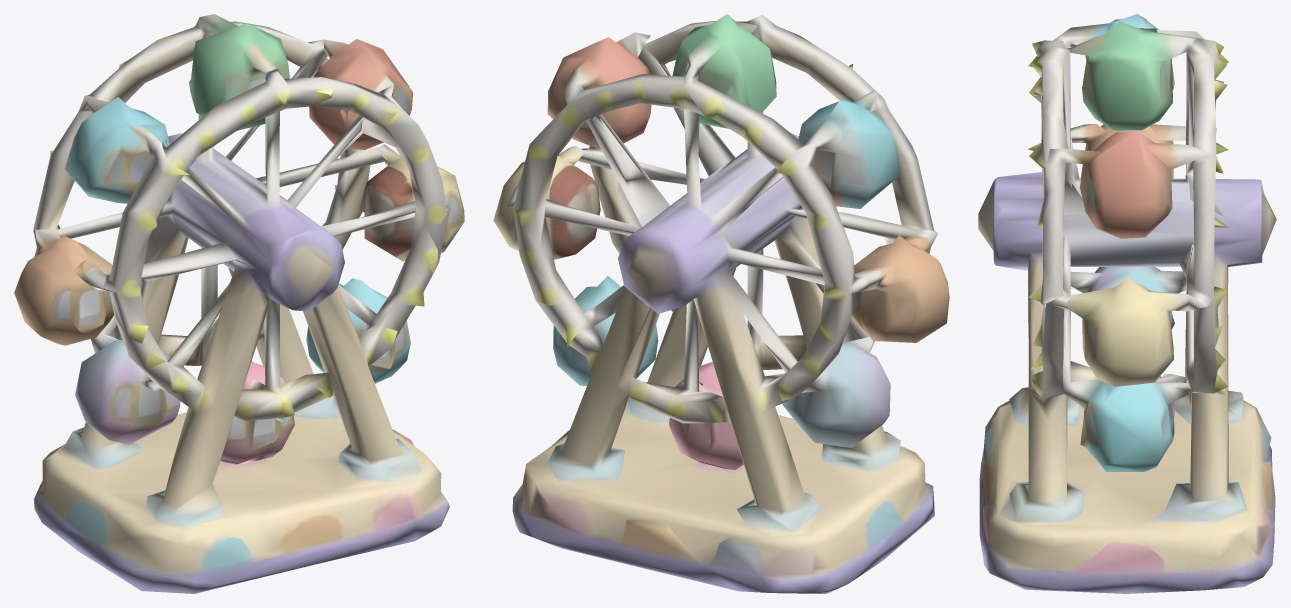
File: grande-roue.glb
3 views of the same model, side by side, from view 1: azimuth 30°, elevation 25°; view 2: azimuth 150°, elevation 25°; view 3: azimuth 270°, elevation 25° (orthographic).
Parts seen in each view (by area): view 1: tripo_node_ceff4321-12eb-4f93-8430-1f1f159f3910; view 2: tripo_node_ceff4321-12eb-4f93-8430-1f1f159f3910; view 3: tripo_node_ceff4321-12eb-4f93-8430-1f1f159f3910.
Boxes of the visible parts, x1,y1,x2,y2 form: tripo_node_ceff4321-12eb-4f93-8430-1f1f159f3910: [14, 14, 464, 593]; tripo_node_ceff4321-12eb-4f93-8430-1f1f159f3910: [493, 14, 949, 593]; tripo_node_ceff4321-12eb-4f93-8430-1f1f159f3910: [978, 14, 1276, 593].
Size of the model in its own units: 0.9179 by 1 by 0.5475.
1 material, 1 textured.
